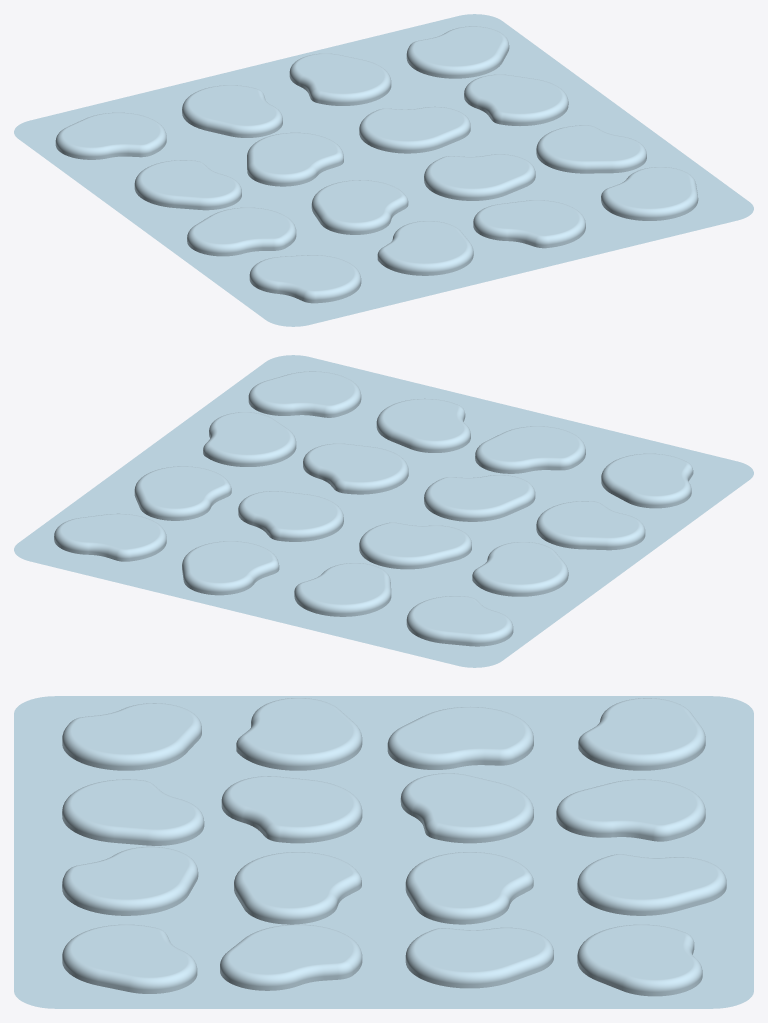
The model's file is board_collider.glb.
3 views of the same model, one above another, from view 1: azimuth 30°, elevation 25°; view 2: azimuth 150°, elevation 25°; view 3: azimuth 270°, elevation 25° (orthographic). The views are drawn at different scales.
Visible parts, largest first — view 1: collider; view 2: collider; view 3: collider.
Part boxes in pixels (left/top/right/bottom): collider: left=14, top=14, right=753, bottom=326; collider: left=14, top=355, right=753, bottom=667; collider: left=14, top=696, right=753, bottom=1008.
Size of the model in its own units: 1.58 by 0.03 by 1.58.
